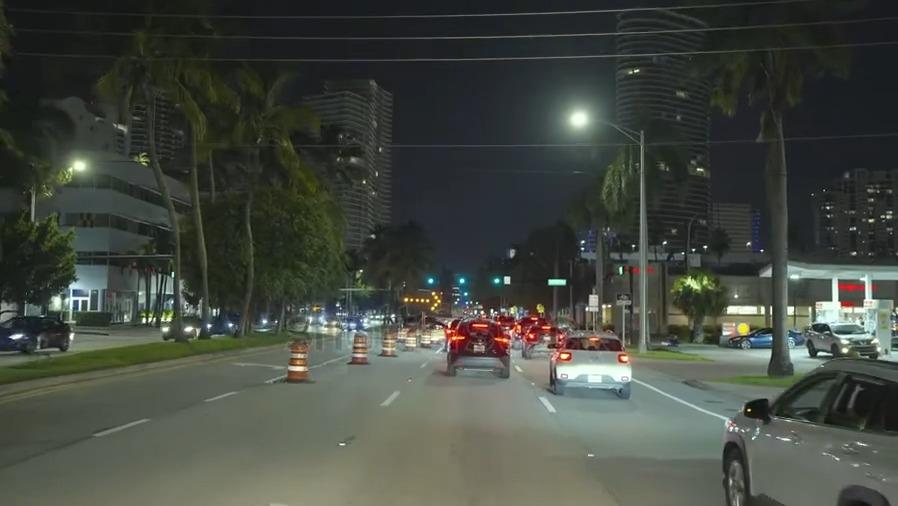arrow traffic sign: (399, 288, 445, 317)
car: (728, 362, 898, 506), (547, 331, 633, 399), (447, 317, 510, 378), (0, 311, 76, 358), (805, 320, 880, 359), (728, 324, 802, 351), (157, 315, 208, 339), (209, 315, 240, 336)
cone: (287, 339, 309, 381), (349, 329, 370, 368), (381, 328, 395, 359), (405, 328, 416, 354)
wheel: (721, 441, 751, 506)
